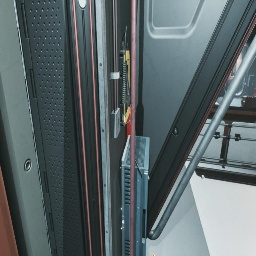EmergencyPhone ,: (119, 26, 131, 126)
FireAlarm ,: (127, 104, 131, 153)
